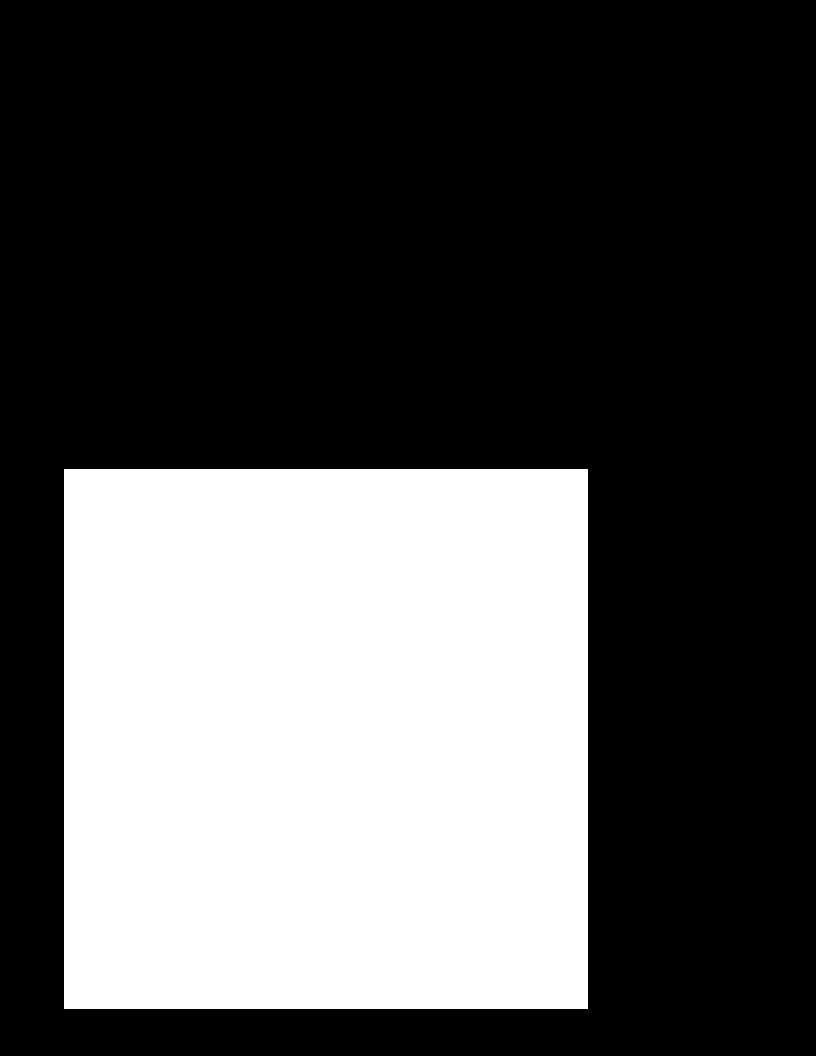table: (64, 469, 587, 1008)
